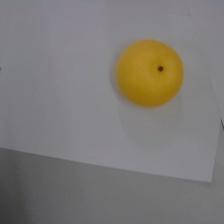yellow: (116, 40, 182, 105)
